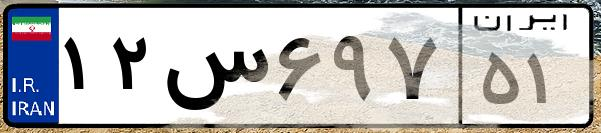1: (57, 26, 110, 100), (525, 38, 570, 115)
2: (110, 28, 158, 98)
5: (475, 38, 525, 113)
6: (270, 28, 330, 110)
7: (385, 28, 445, 110)
9: (330, 28, 385, 110)
س: (158, 20, 270, 120)
